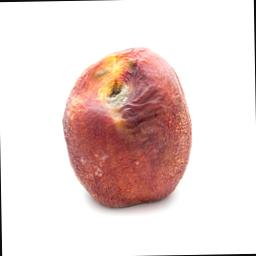Peach Rotten: (54, 46, 200, 206)
